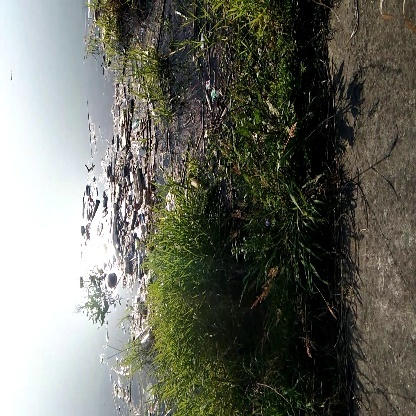grass: (151, 248, 227, 400)
